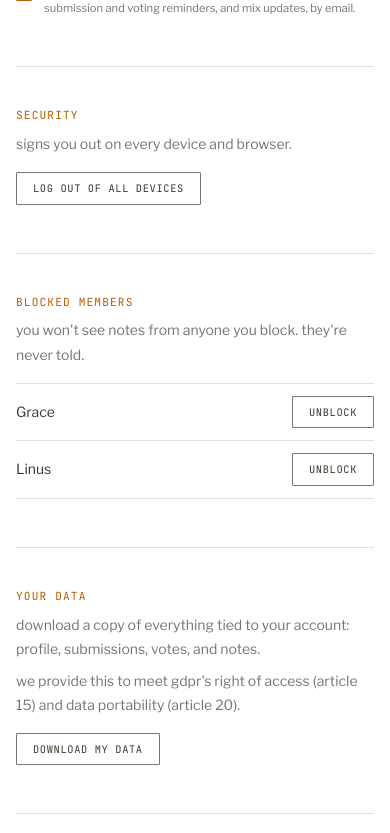
Scenario: ProfileRoute › blocked members (MysteryMixClub-4vii.49) › unblock failure: keeps the row and shows a calm error
(page scrolled)
What coordinates should you click on to do the following:
click the button with aria-label "unblock Grace"
I would click on:
 (333, 412)
Its box is [292, 396, 374, 428].
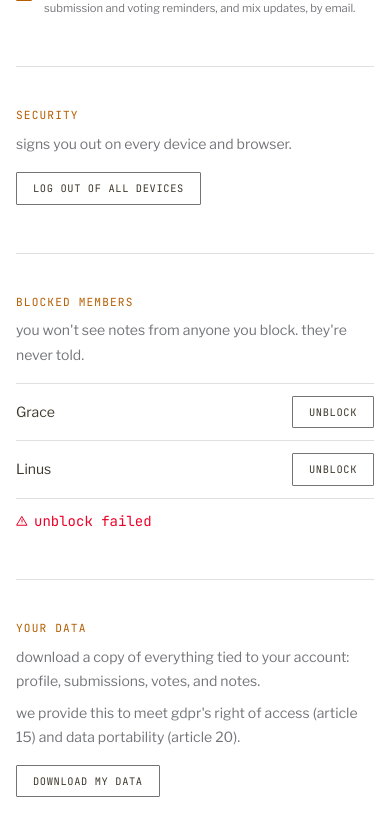
Check: the text "Grace" is shown, box [16, 402, 55, 422]
Check: the text "unblock failed" is shown, box [16, 512, 152, 530]
